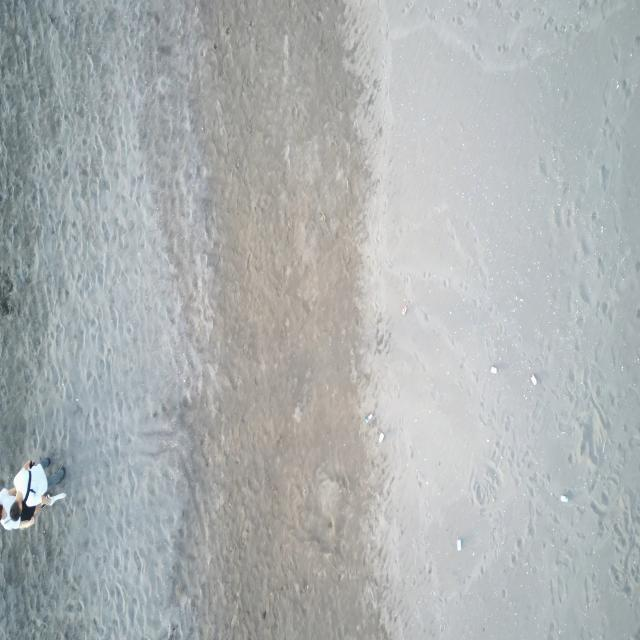Garbage: (364, 413, 373, 423), (400, 303, 407, 315), (488, 364, 496, 373), (377, 432, 384, 442), (455, 537, 460, 551), (529, 373, 535, 384), (560, 493, 567, 502)
